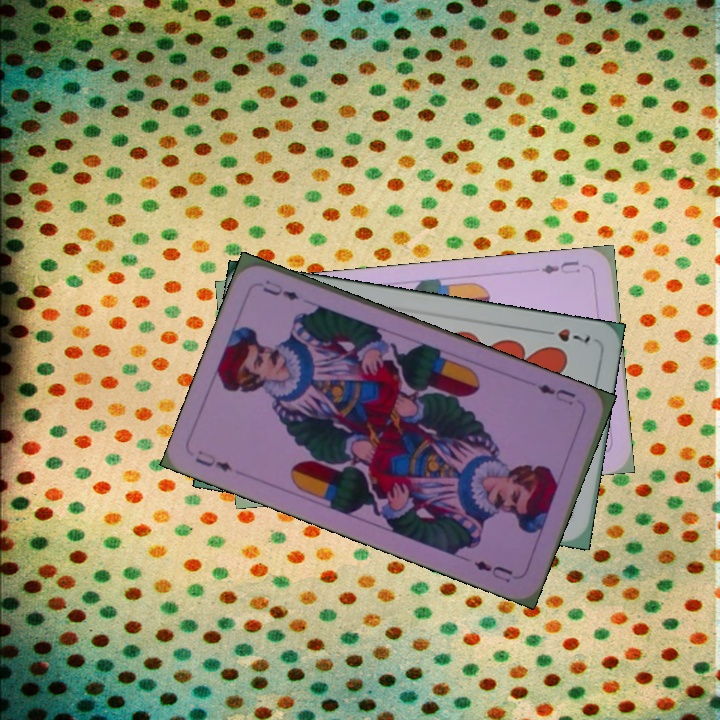EU: (533, 380, 578, 409), (191, 446, 235, 475), (537, 257, 583, 277)
H7: (537, 324, 593, 346)
